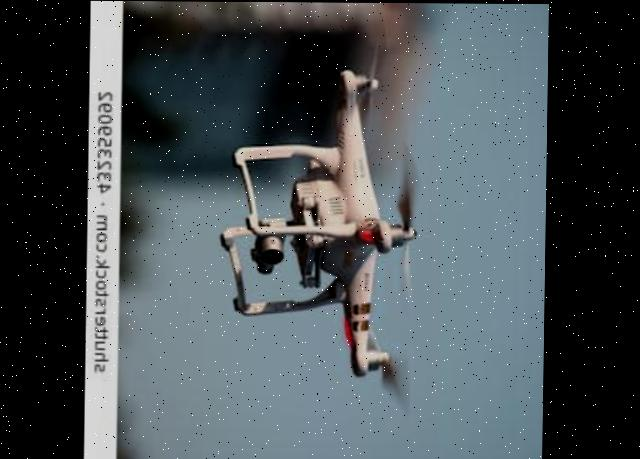drone: (218, 1, 441, 427)
